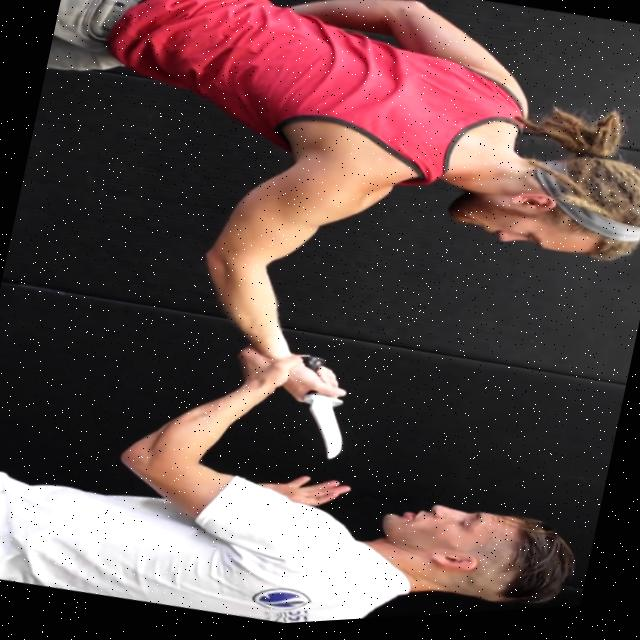knife: (291, 390, 353, 465)
